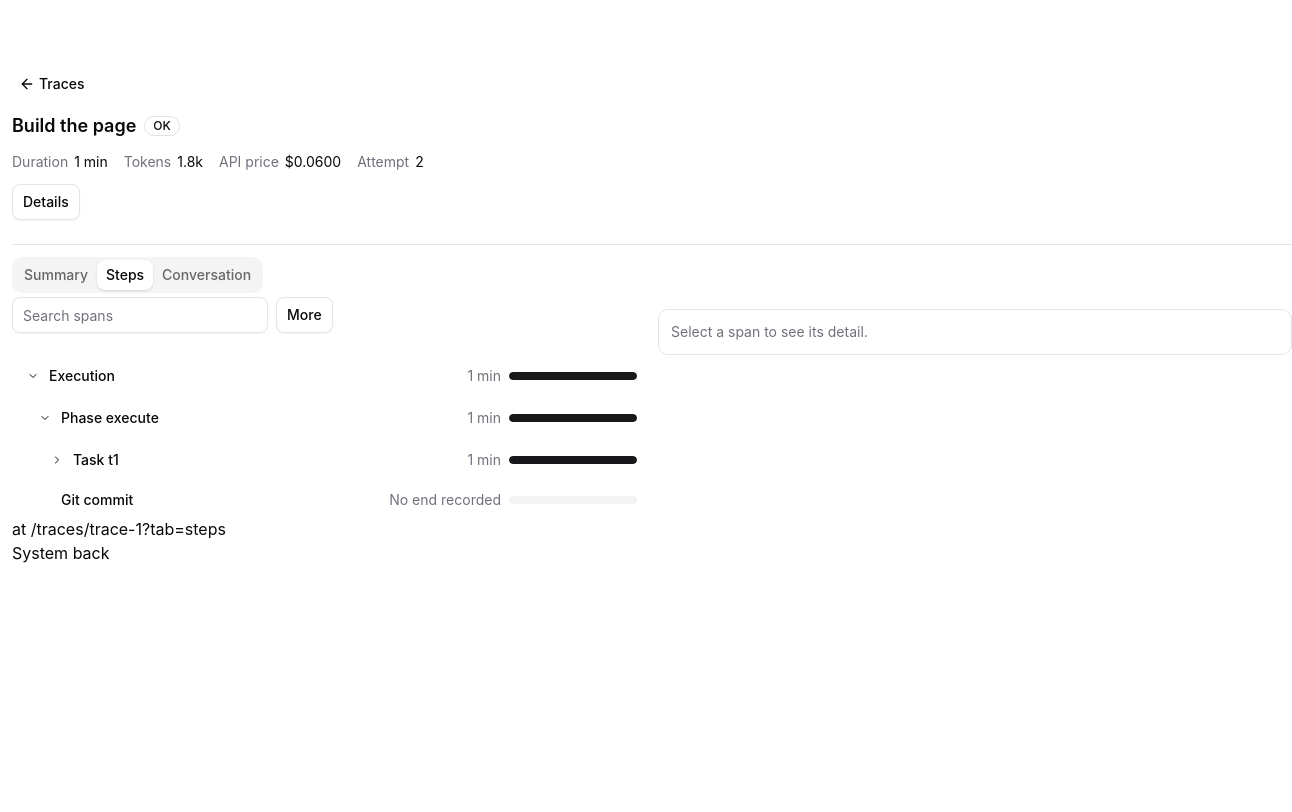
Test: TraceScreen header › goes back to the trace list with the Traces link
The width and height of the screenshot is (1292, 812).
What coordinates should you click on to do the following:
click the button "Traces"
I would click on:
 (52, 84)
Its box is x1=19 y1=75 x2=84 y2=92.
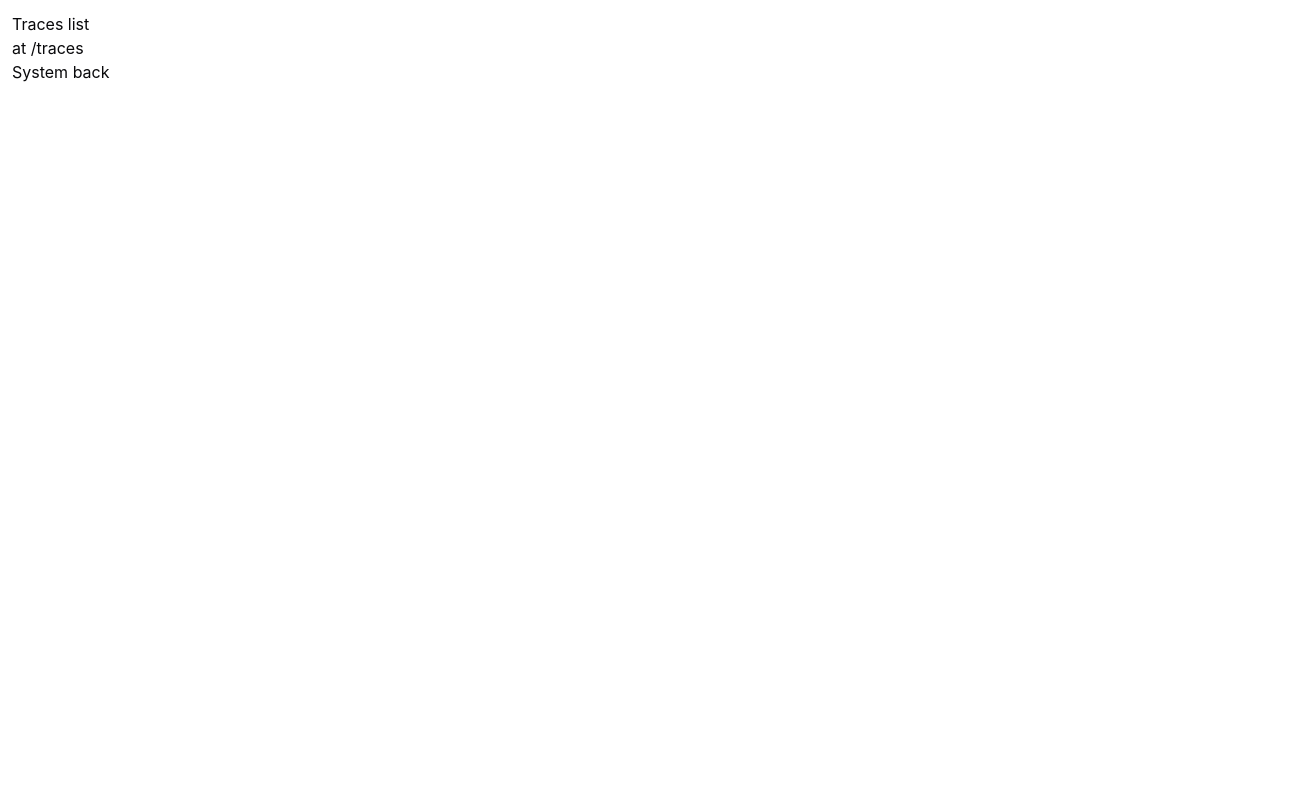
Check: the text "Traces list" is shown, box x1=12 y1=14 x2=89 y2=34
